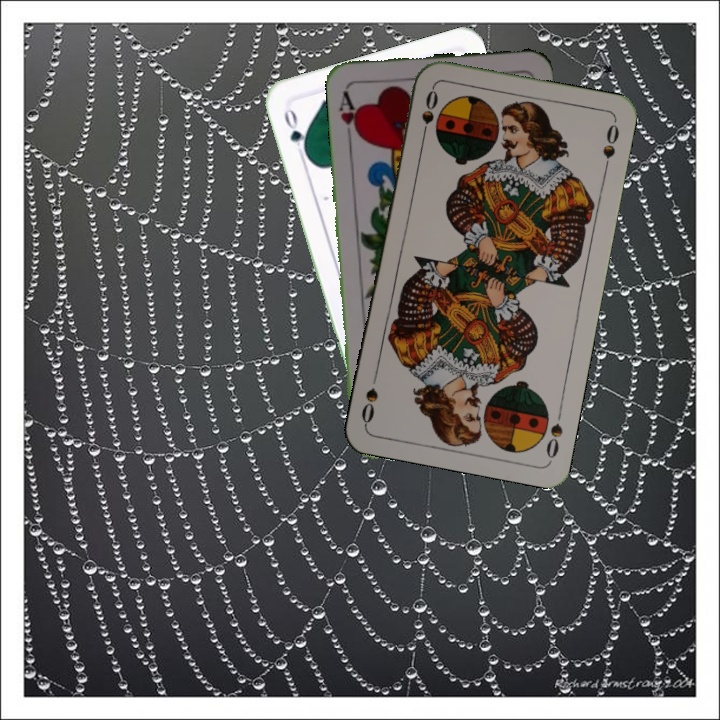GO: (280, 103, 311, 161)
HA: (334, 85, 363, 144)
SO: (417, 84, 441, 143), (542, 403, 565, 461)
